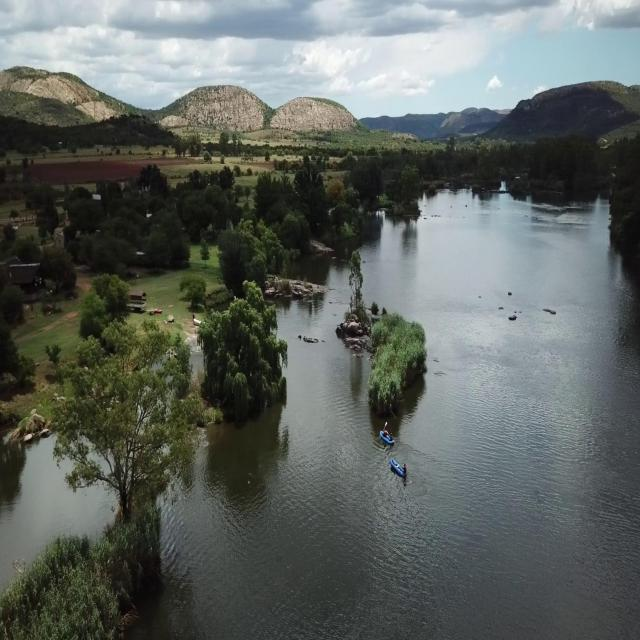kayak: (389, 455, 408, 479), (379, 422, 396, 446)
